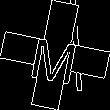M_N: (28, 26, 82, 84)
